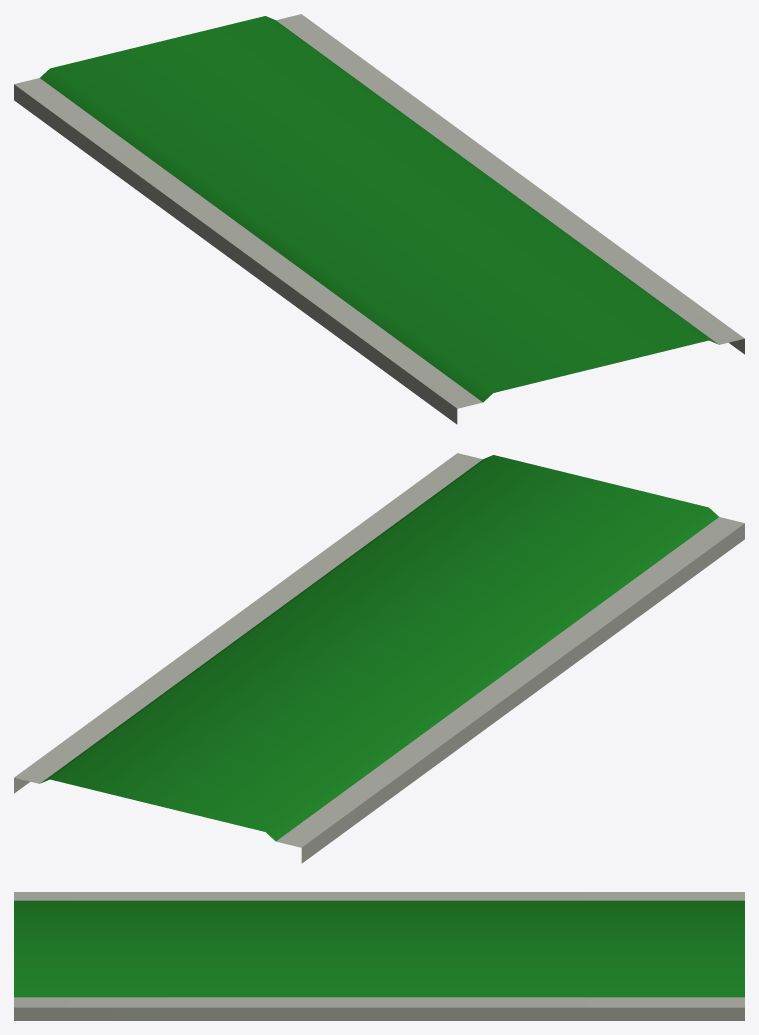
Rendered from RoadMid_2_B.fbx.
3 views of the same model, one above another, from view 1: azimuth 30°, elevation 25°; view 2: azimuth 150°, elevation 25°; view 3: azimuth 270°, elevation 25° (orthographic). The views are drawn at different scales.
Visible parts, largest first — view 1: RoadMid_2_B; view 2: RoadMid_2_B; view 3: RoadMid_2_B.
Part boxes in pixels (x1=…): RoadMid_2_B: x1=14, y1=14, x2=744, y2=424; RoadMid_2_B: x1=14, y1=453, x2=744, y2=863; RoadMid_2_B: x1=14, y1=892, x2=744, y2=1020.
Size of the model in its own units: 299 by 22.96 by 800.
